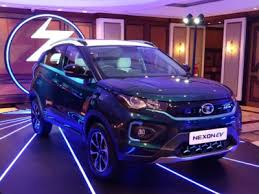Tata Nexon: (28, 38, 242, 183)
